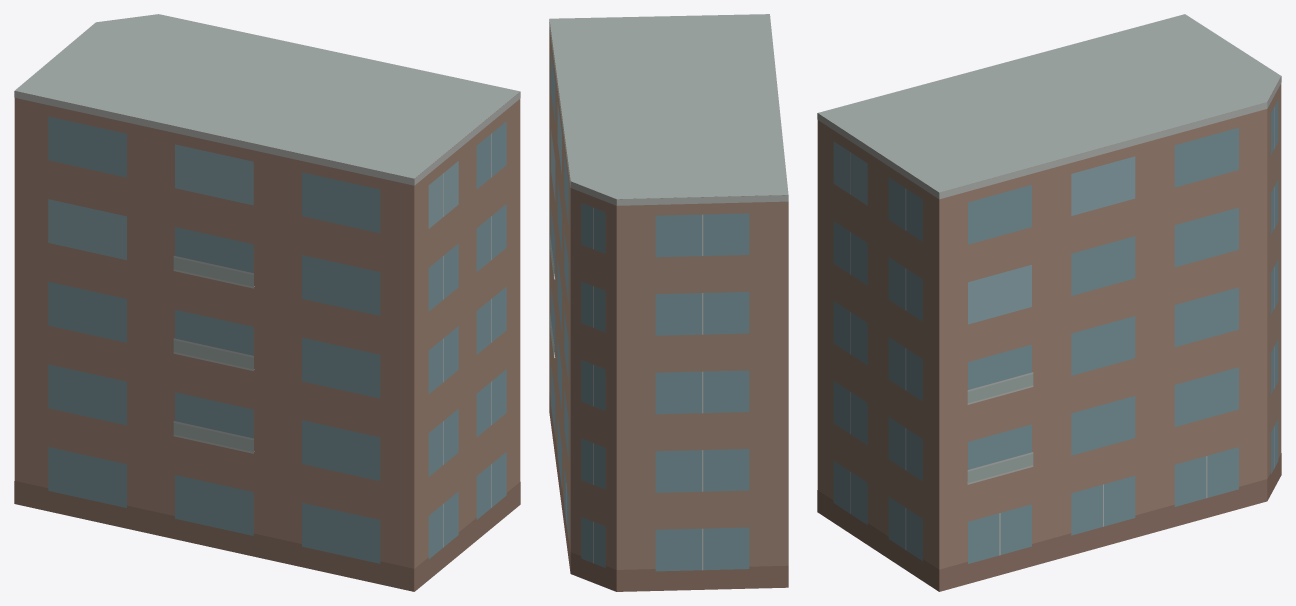
File: survey-upis-32691810.glb
3 views of the same model, side by side, from view 1: azimuth 30°, elevation 25°; view 2: azimuth 150°, elevation 25°; view 3: azimuth 270°, elevation 25° (orthographic). The views are drawn at different scales.
Parts seen in each view (by area): view 1: survey-upis-32691810.tmp; view 2: survey-upis-32691810.tmp; view 3: survey-upis-32691810.tmp.
Part boxes in pixels (bbox=[...]): survey-upis-32691810.tmp: bbox=[14, 14, 520, 591]; survey-upis-32691810.tmp: bbox=[549, 14, 788, 591]; survey-upis-32691810.tmp: bbox=[817, 14, 1281, 591].
Bounding box in the file's own units: 13.87 × 14.45 × 15.22.
